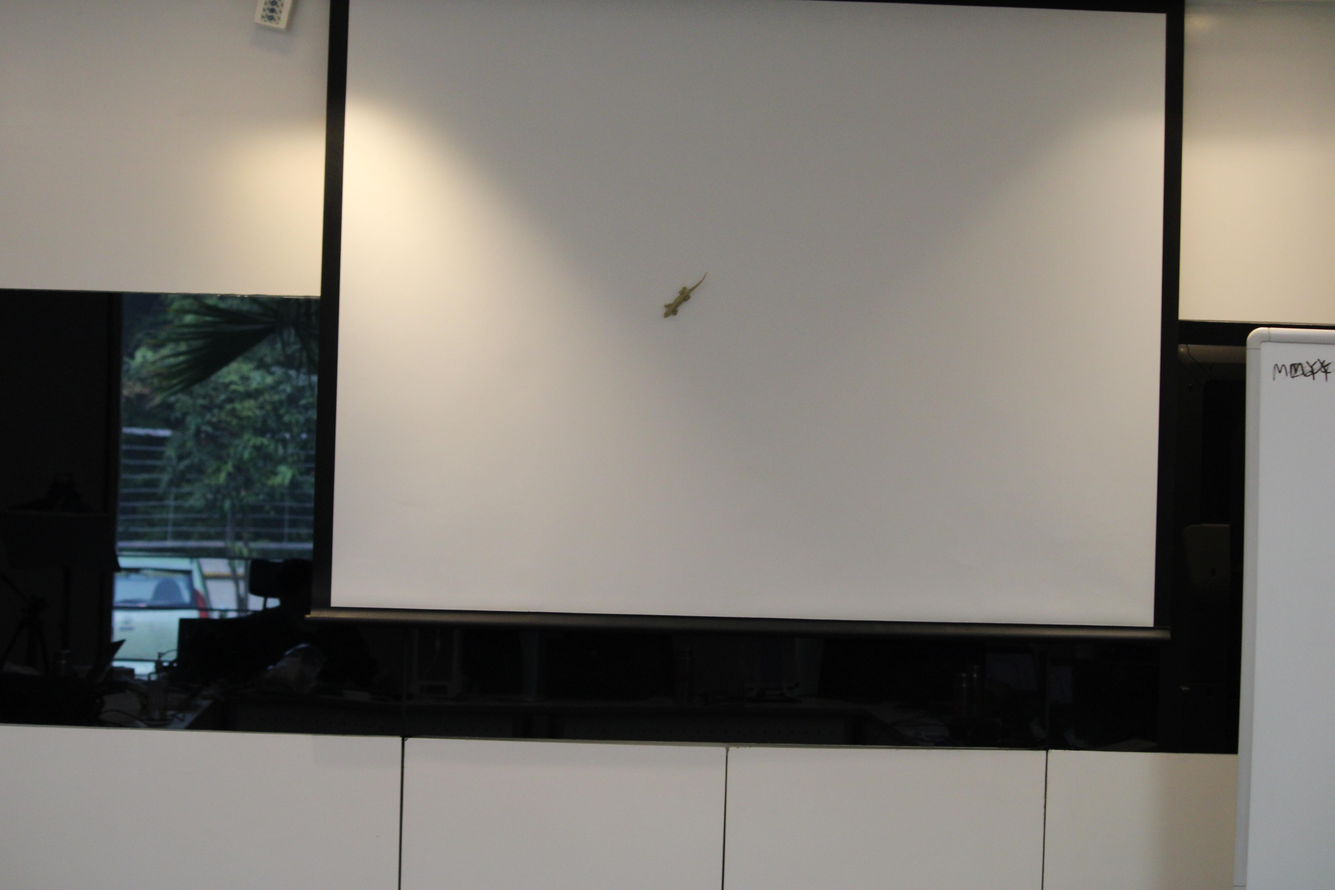lizard: (652, 263, 715, 324)
